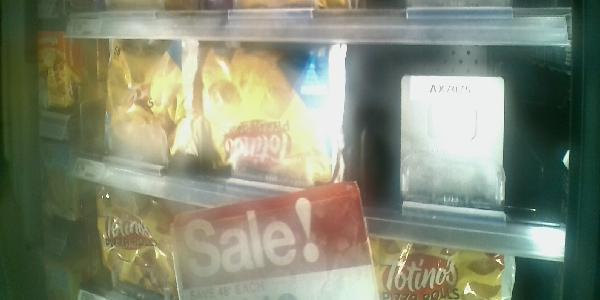icecream: (200, 42, 341, 193), (101, 38, 195, 167), (94, 188, 190, 300)
